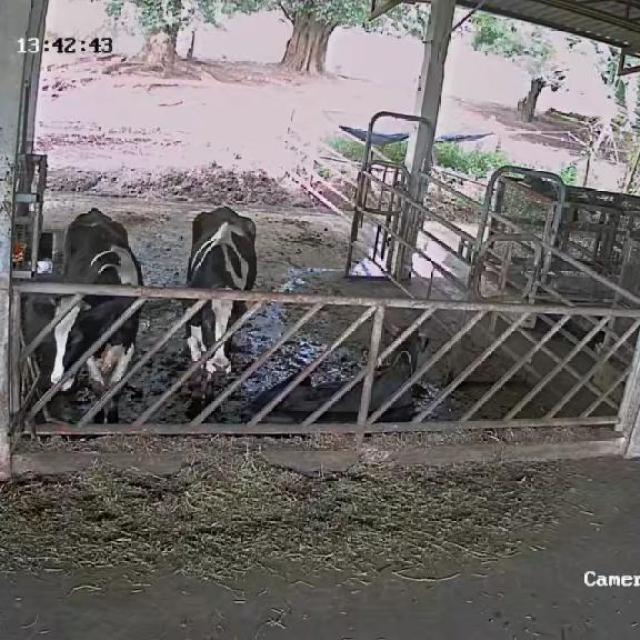lying down: (251, 324, 438, 420)
standing: (44, 203, 148, 427), (185, 205, 259, 413)
